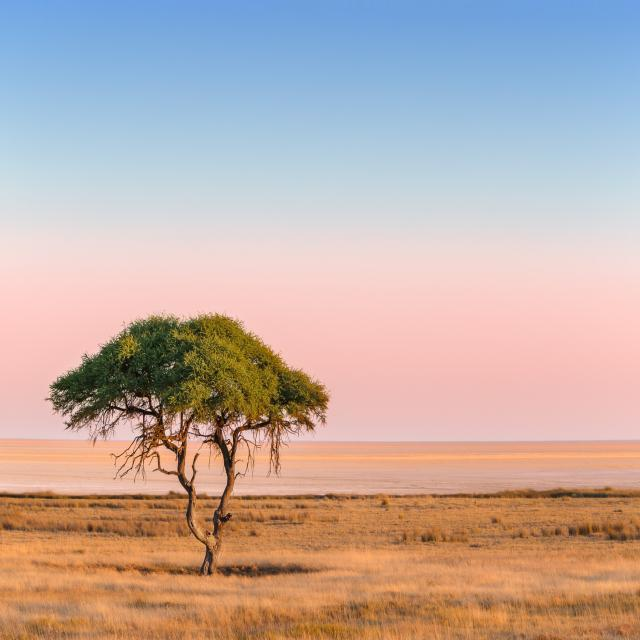Acacia: (39, 288, 336, 566)
